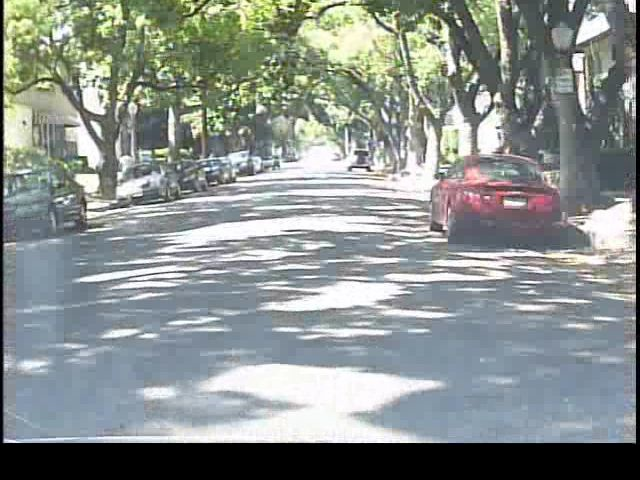person: (117, 146, 139, 195)
